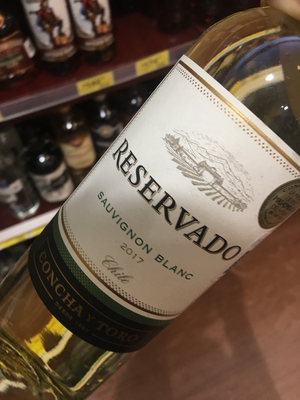reservado sauvignon blanc: (44, 46, 300, 355)
